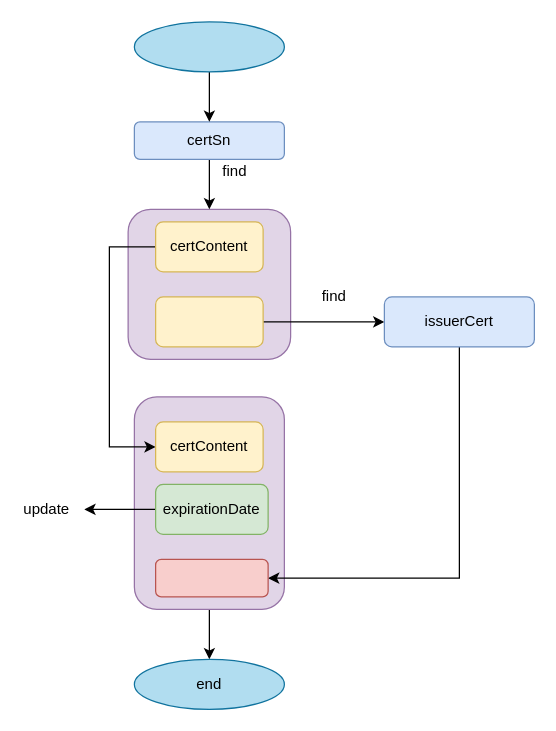
Some shapes in this 556 by 731 pixel diagram are drawn without their labels. Here are the shapes that lost their labels. From the top down, the box of each, then its label:
(133, 21, 284, 72): start
(154, 296, 263, 347): certInfo
(154, 558, 268, 597): signature
